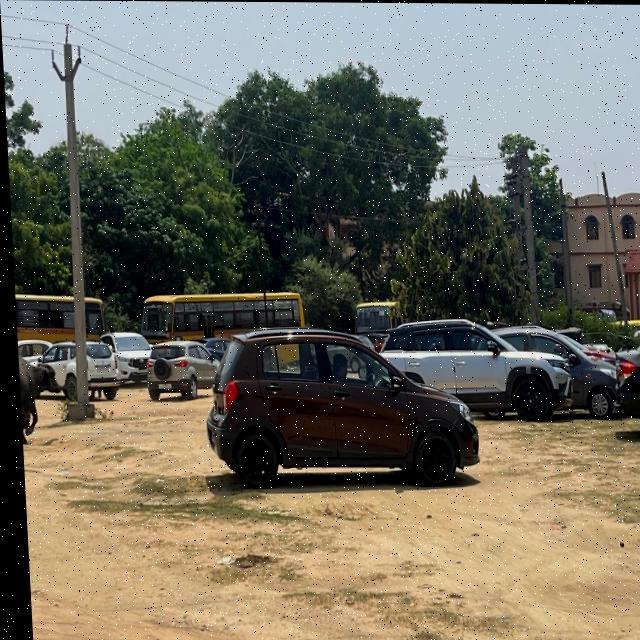bus: (135, 289, 311, 363), (345, 293, 402, 341)
car: (190, 323, 486, 505), (377, 321, 569, 436), (503, 311, 618, 433), (41, 339, 119, 403), (138, 342, 218, 403), (608, 326, 640, 444), (106, 329, 151, 389), (195, 336, 229, 358), (14, 340, 47, 359)
